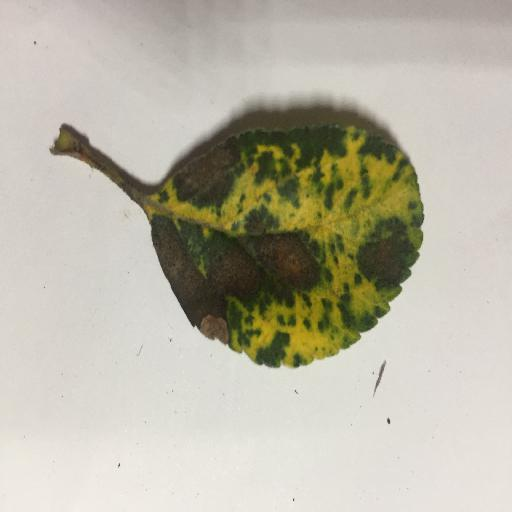Brown_Spot: (161, 232, 212, 325), (174, 142, 235, 197), (249, 238, 312, 282), (204, 251, 259, 294), (364, 242, 413, 276)
